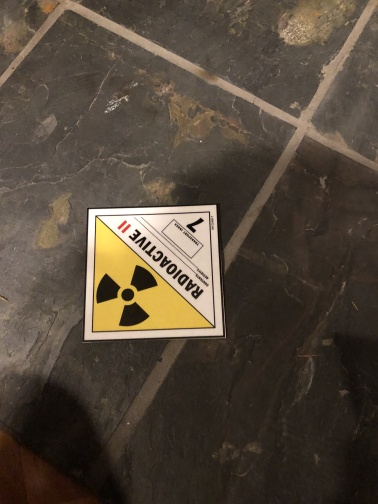Radioactive: (85, 205, 222, 339)
